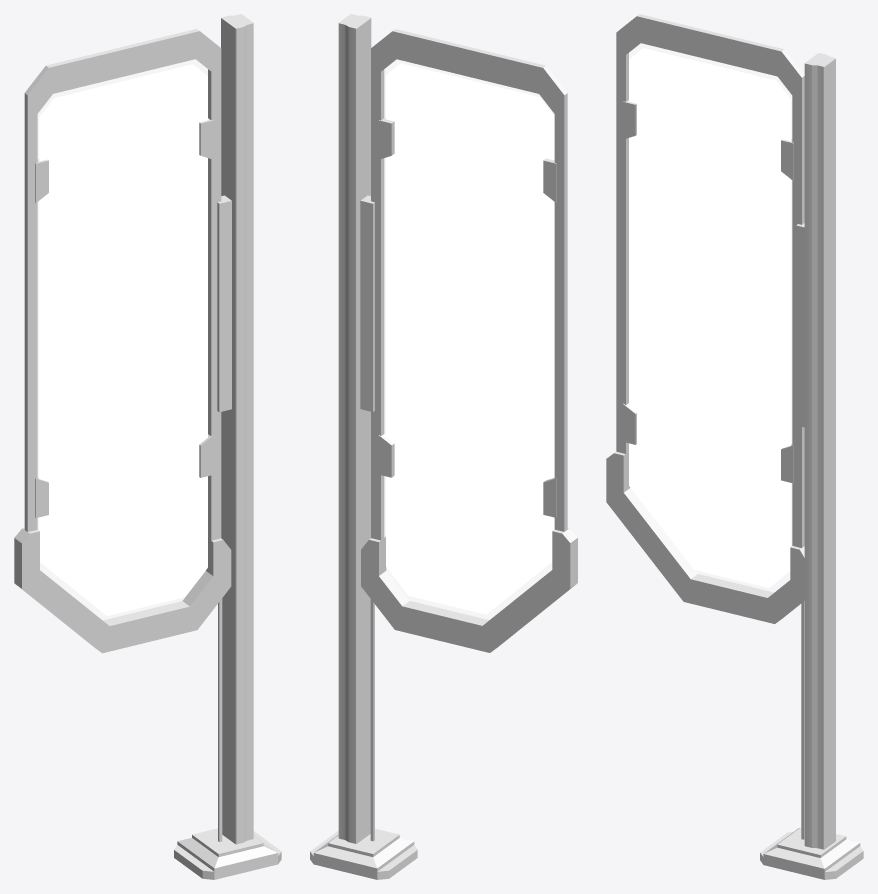
The model's file is KB3D_FTW_PropSign_D_grp.glb.
3 views of the same model, side by side, from view 1: azimuth 30°, elevation 25°; view 2: azimuth 150°, elevation 25°; view 3: azimuth 330°, elevation 25° (orthographic). The views are drawn at different scales.
Parts seen in each view (by area): view 1: KB3D_FTW_PropSign_D_Main; view 2: KB3D_FTW_PropSign_D_Main; view 3: KB3D_FTW_PropSign_D_Main.
Boxes of the visible parts, <box> form: KB3D_FTW_PropSign_D_Main: <box>14,14,281,879</box>; KB3D_FTW_PropSign_D_Main: <box>310,14,577,879</box>; KB3D_FTW_PropSign_D_Main: <box>606,14,863,879</box>.
Bounding box in the file's own units: 0.7493 × 2.4 × 0.1928.
4 materials, 1 textured.
